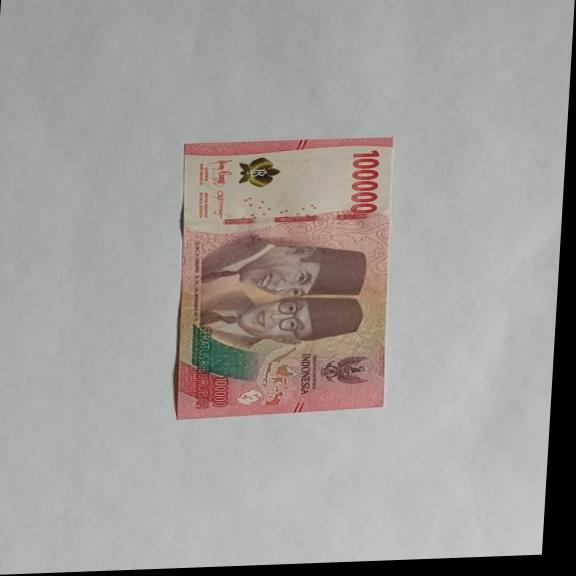Kertas: (167, 135, 400, 421), (346, 148, 383, 218)
